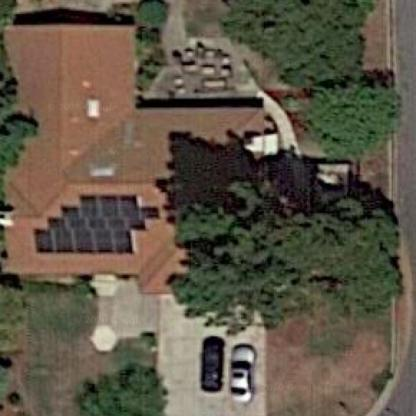car: (223, 337, 267, 407), (202, 330, 227, 395)
solar_panel: (36, 186, 161, 266)
